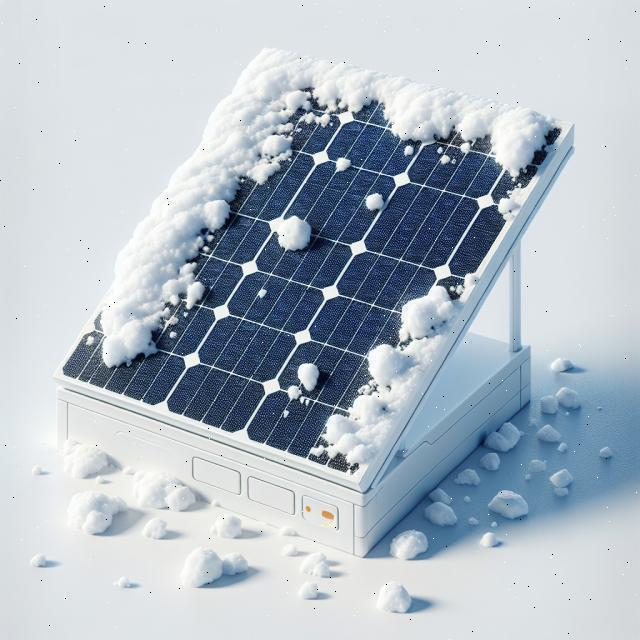Anomaly Solar Panel: (52, 0, 568, 534)
Snow: (9, 0, 574, 377), (304, 244, 479, 481), (271, 356, 327, 428), (269, 209, 318, 258), (492, 192, 521, 222), (364, 192, 385, 209), (333, 154, 351, 172), (81, 332, 98, 349)
